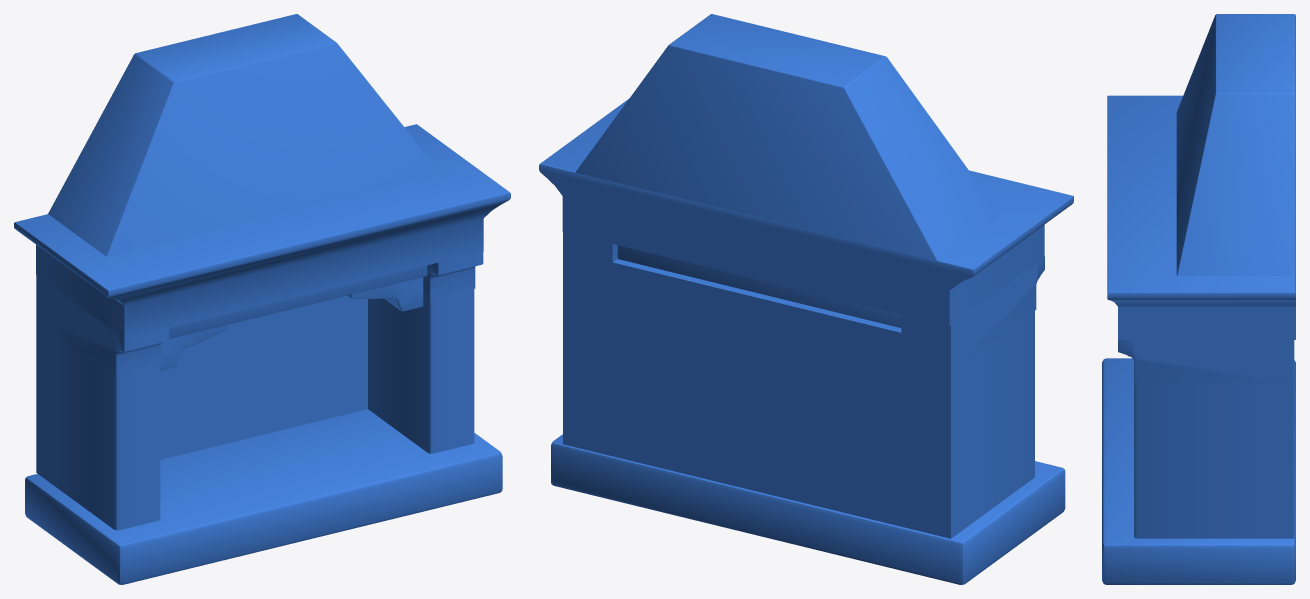
The model's file is Fireplace_1.fbx.
3 renders of one model, left to right at view 1: azimuth 30°, elevation 25°; view 2: azimuth 150°, elevation 25°; view 3: azimuth 270°, elevation 25°, orthographic. The views are drawn at different scales.
Parts seen in each view (by area): view 1: fireplace_1; view 2: fireplace_1; view 3: fireplace_1.
Part boxes in pixels (x1,y1,x2,y2): fireplace_1: (14, 14, 510, 584); fireplace_1: (539, 14, 1073, 584); fireplace_1: (1102, 14, 1295, 584).
Size of the model in its own units: 2.02 by 2.1 by 0.8395.
